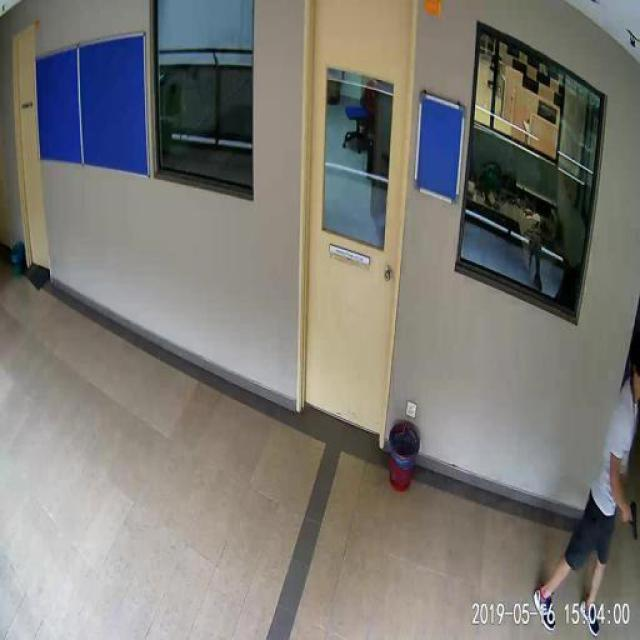weapon: (619, 499, 640, 542)
